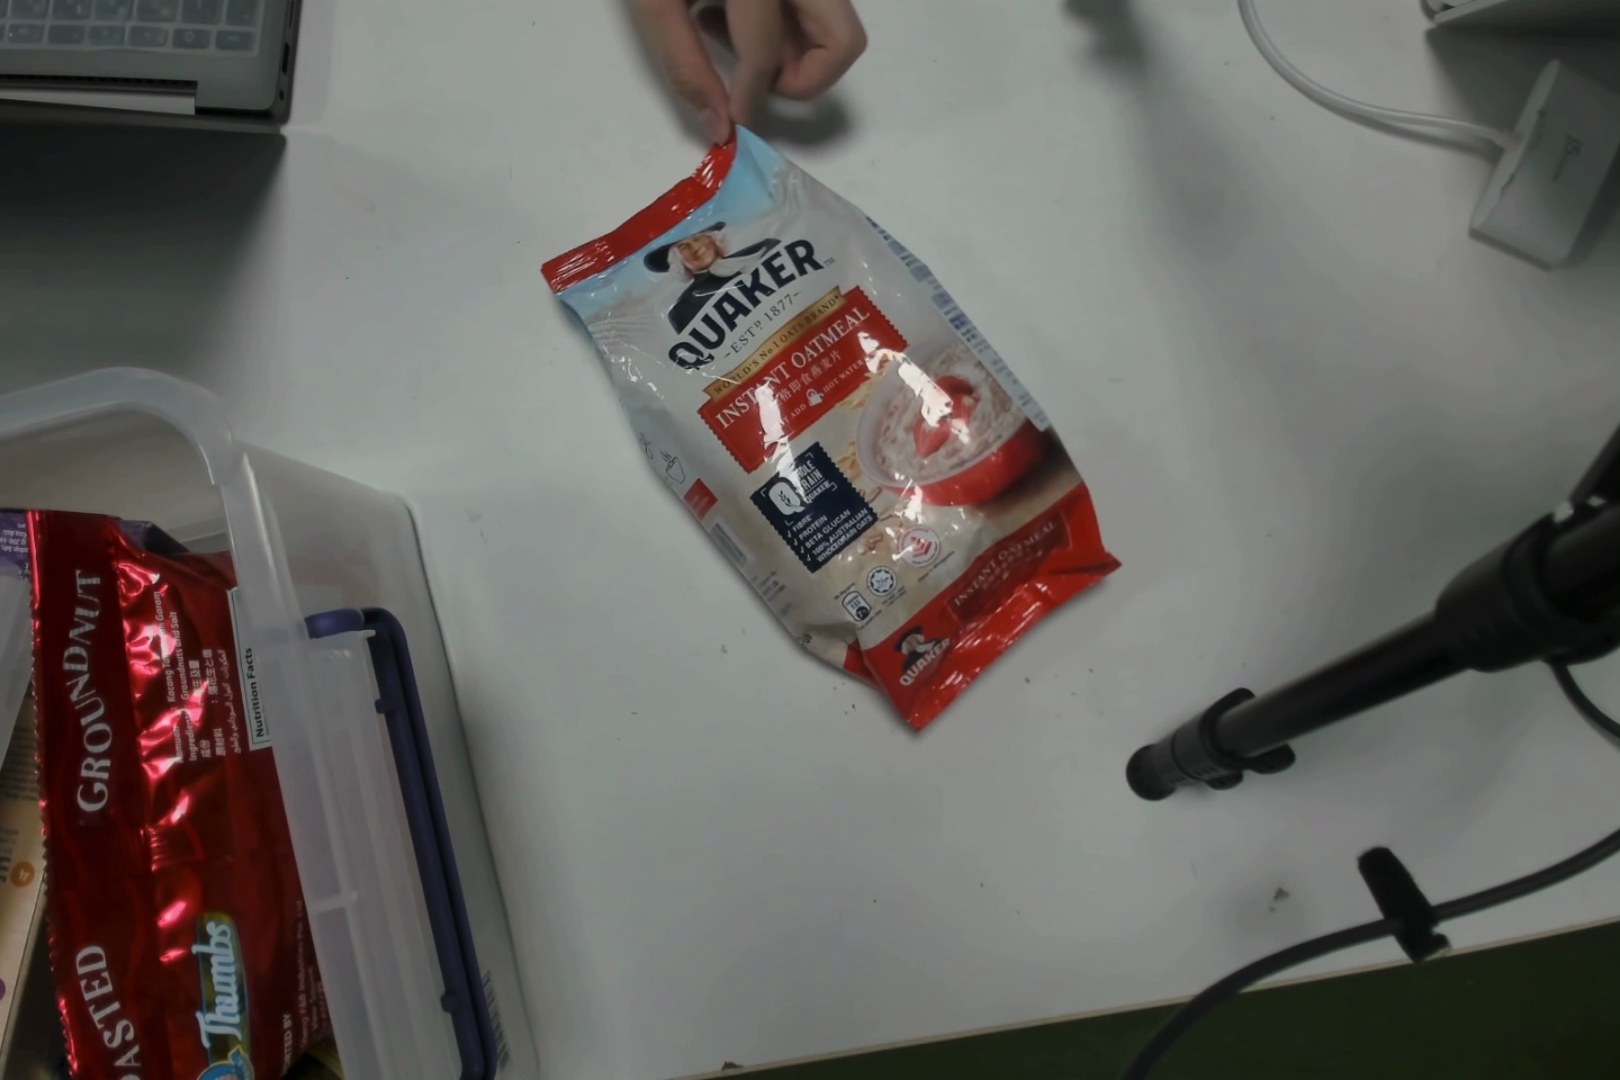RolledOatsInstantOatmeal_400-499g_Halal_Healthy: (658, 155, 1097, 695)
